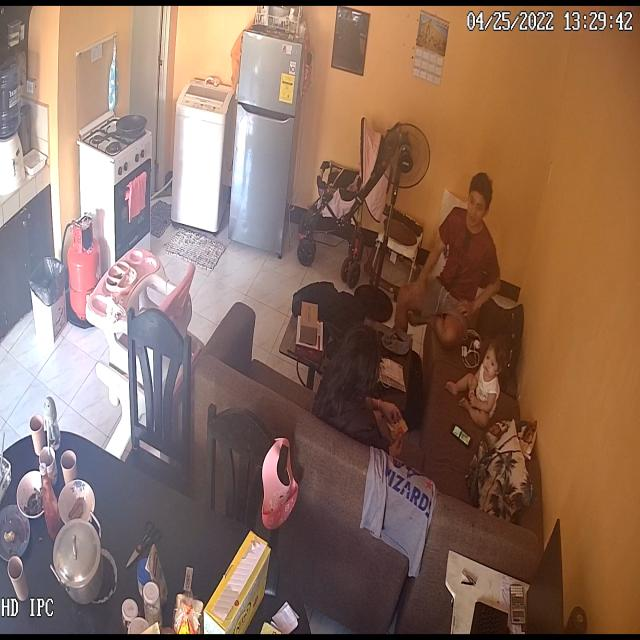adult: (389, 173, 508, 379), (301, 306, 425, 474)
child: (444, 332, 512, 438)
